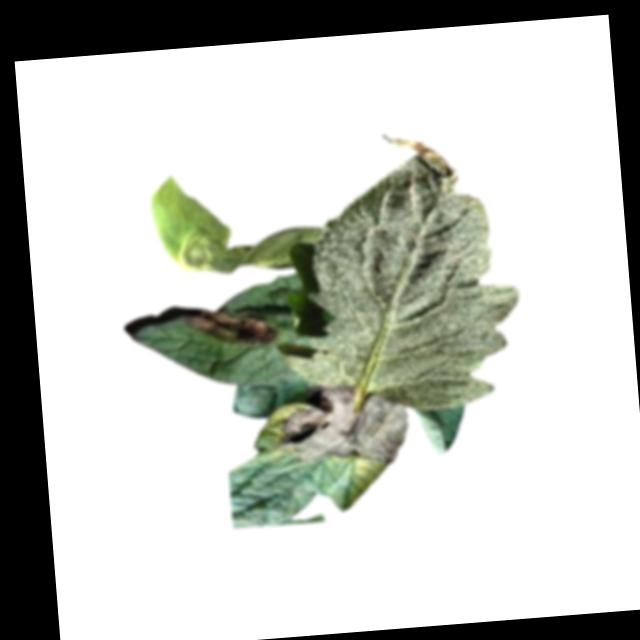Late_blight: (146, 162, 323, 281), (274, 379, 413, 474), (186, 301, 278, 353)
